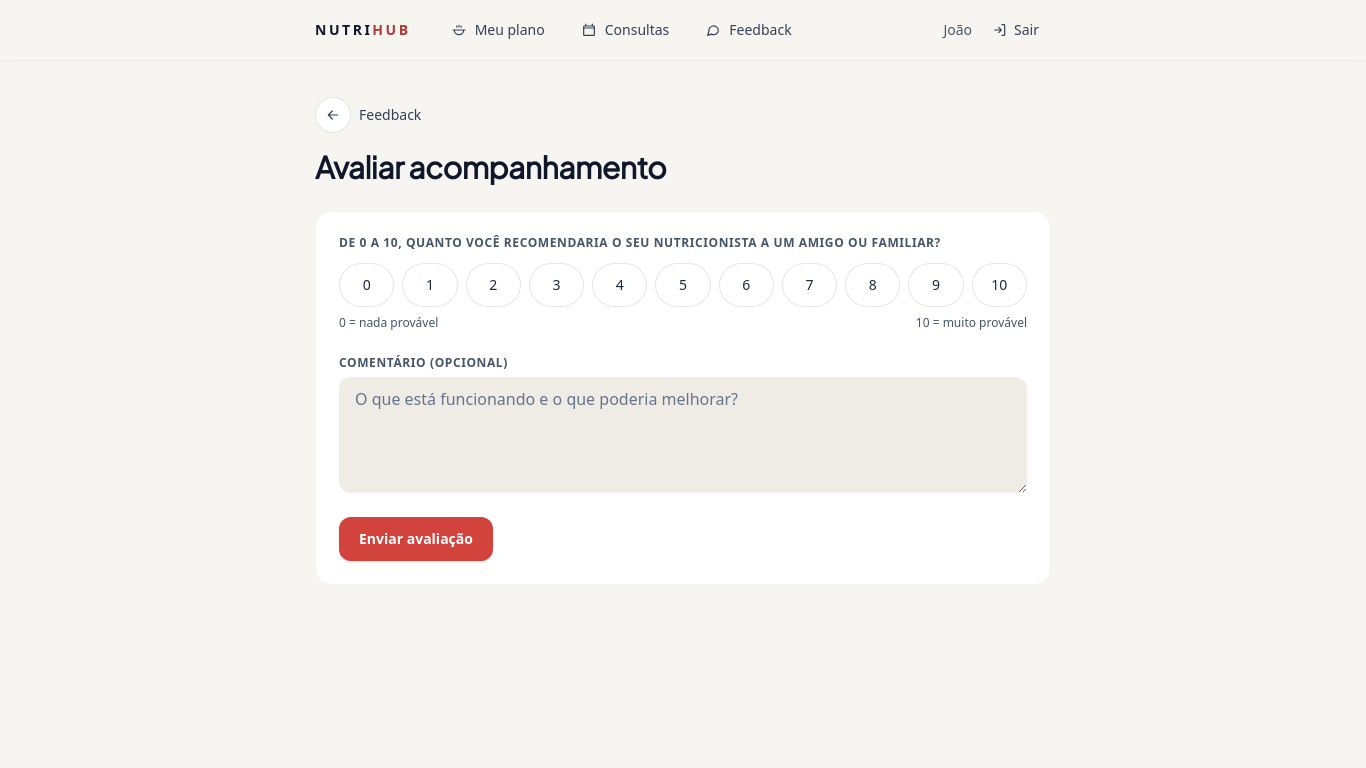
Scenario: Avaliar (UC-07) › envia a nota e o comentário e agradece
This screenshot has width=1366, height=768.
Click the radio button named "Nota 9" at (936, 284), box [908,262,964,306]
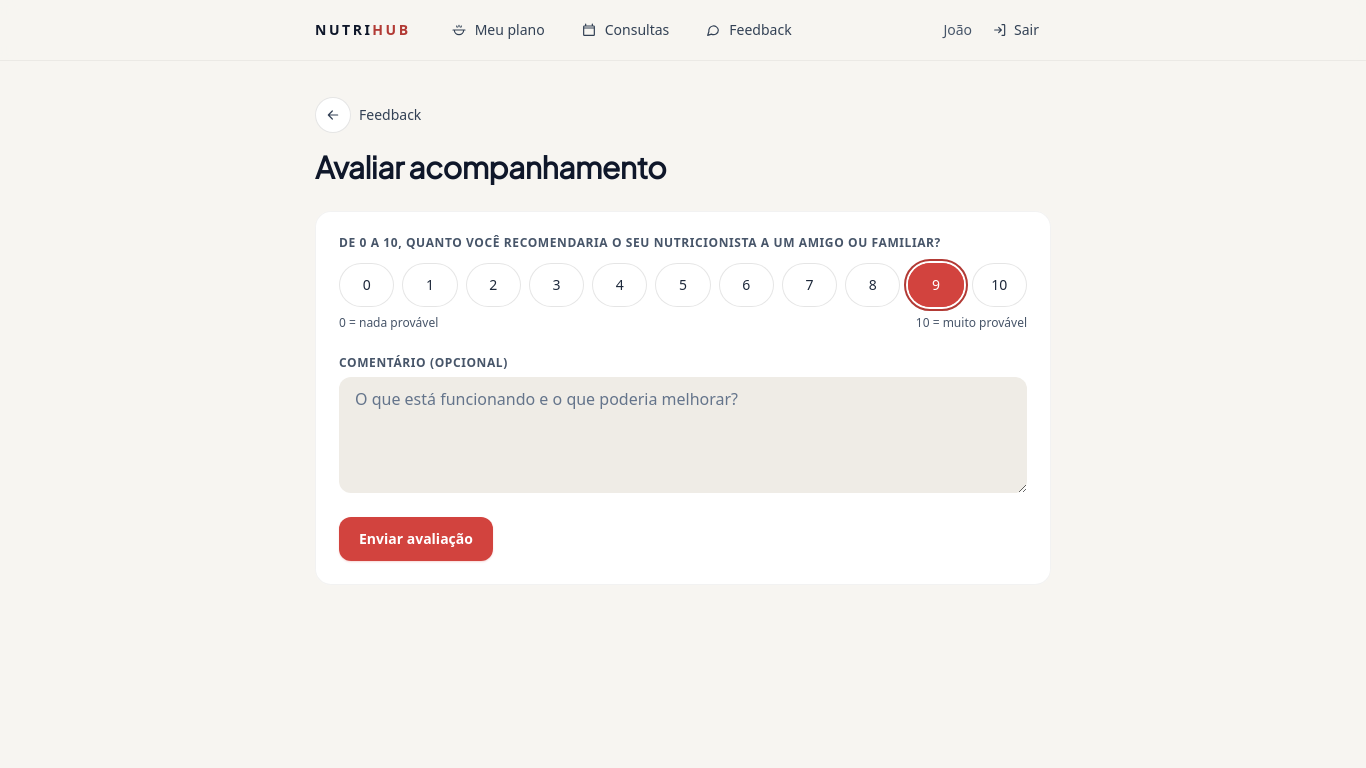
Type "  Gostei muito  " into the text box labelled "Comentário (opcional)" at (683, 434), box [339,376,1027,492]
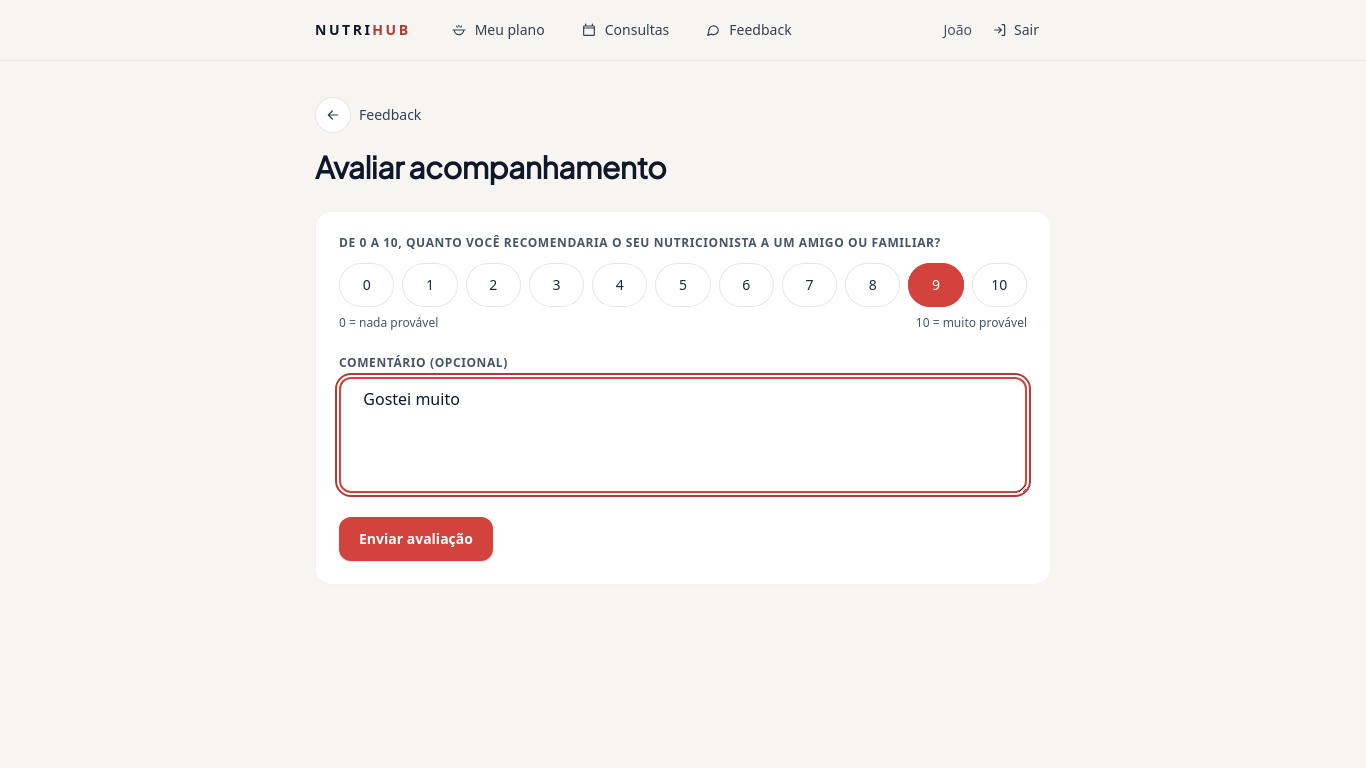
Click the button "Enviar avaliação" at (416, 538), box [339,516,493,560]
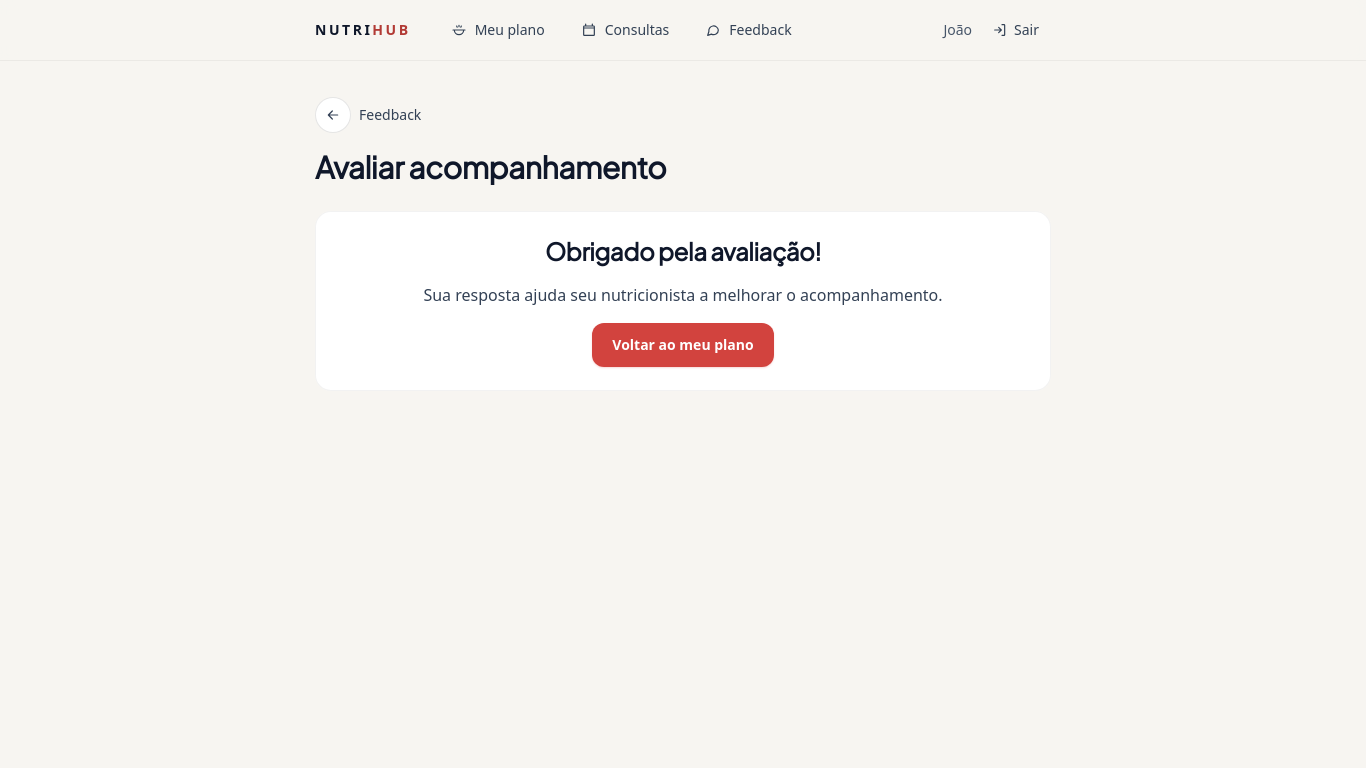
Expected: the text "Obrigado pela avaliação!" is shown, [545,236,821,266]
